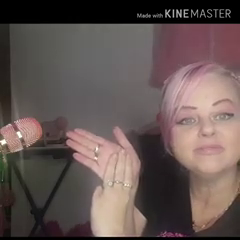M: (64, 124, 142, 240)
